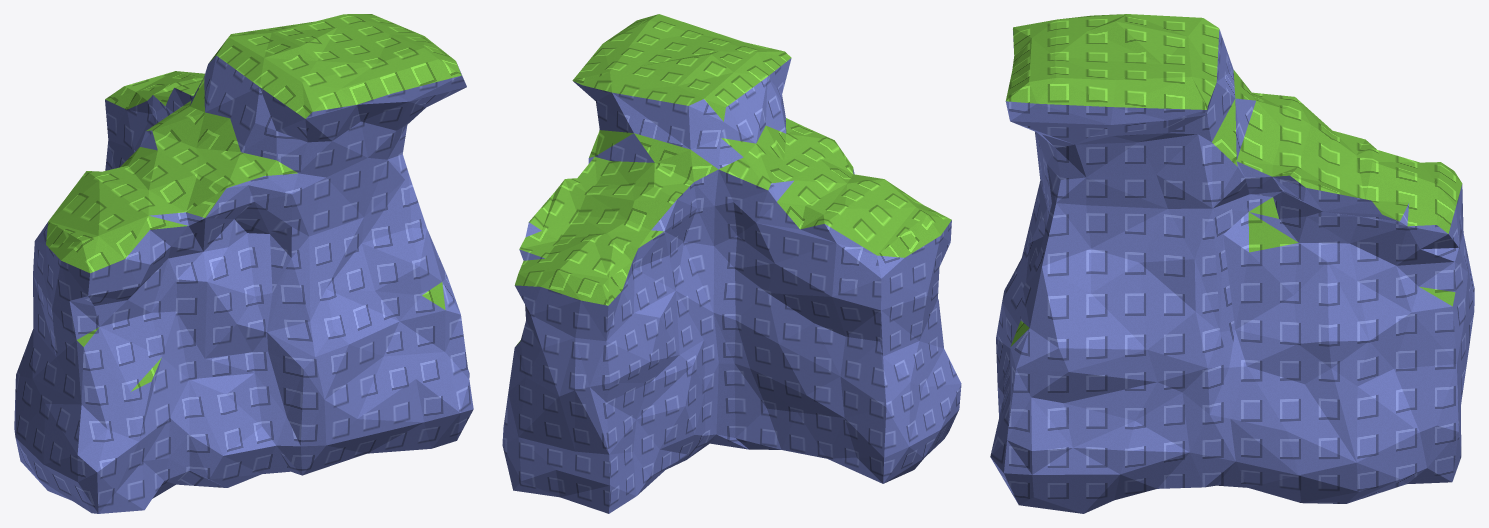
The model's file is CornerRock.glb.
3 renders of one model, left to right at view 1: azimuth 30°, elevation 25°; view 2: azimuth 150°, elevation 25°; view 3: azimuth 270°, elevation 25°, orthographic. The views are drawn at different scales.
Parts seen in each view (by area): view 1: CornerRock_Rock, CornerRock_Top; view 2: CornerRock_Rock, CornerRock_Top; view 3: CornerRock_Rock, CornerRock_Top.
Part boxes in pixels (x1,y1,x2,y2): CornerRock_Rock: [14, 55, 473, 513]; CornerRock_Top: [46, 14, 461, 391]; CornerRock_Rock: [502, 58, 961, 513]; CornerRock_Top: [515, 14, 951, 345]; CornerRock_Rock: [990, 29, 1474, 513]; CornerRock_Top: [1006, 14, 1462, 346].
Size of the model in its own units: 12.58 by 12.56 by 12.51.
Materials: 2 (2 with a texture image).
